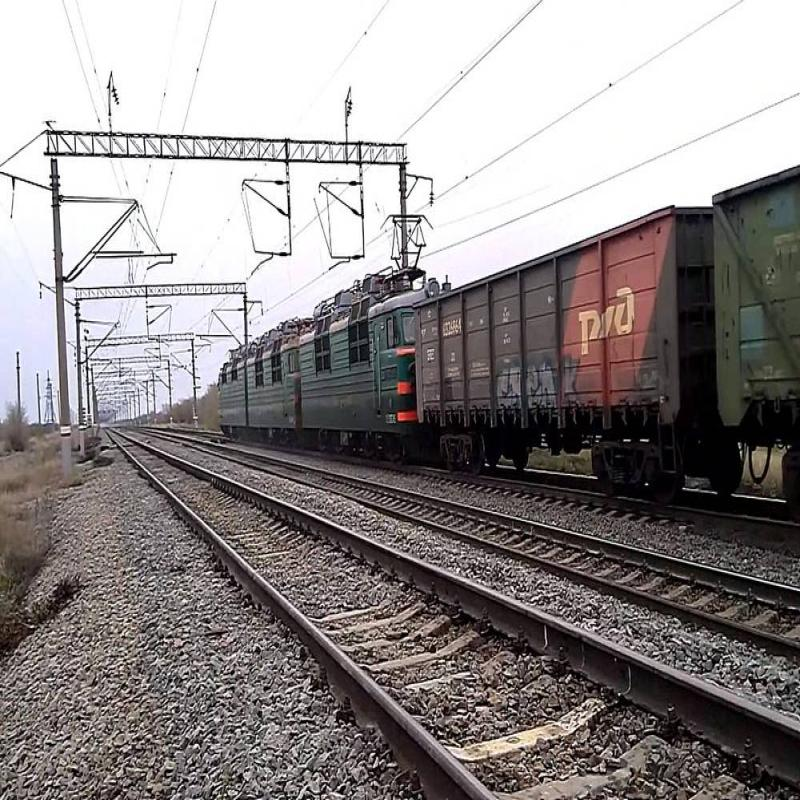train: (412, 226, 731, 519), (311, 261, 451, 473), (211, 299, 313, 473)
